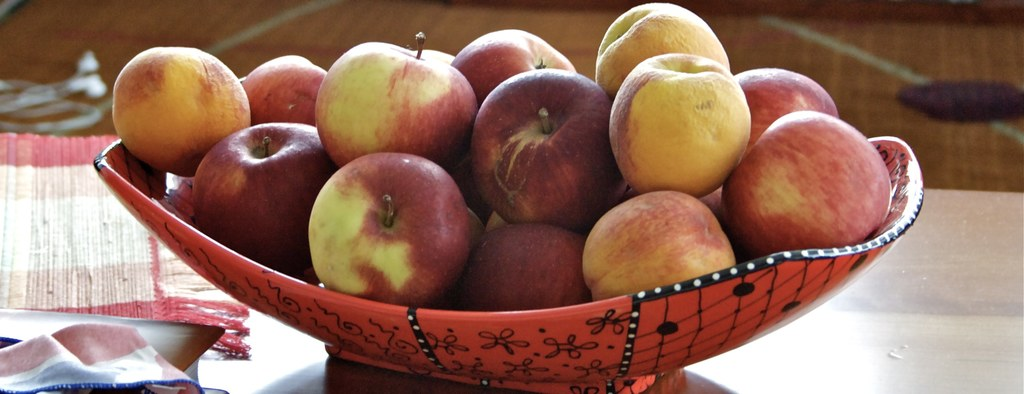Apple: (103, 5, 889, 301), (299, 149, 477, 315)
